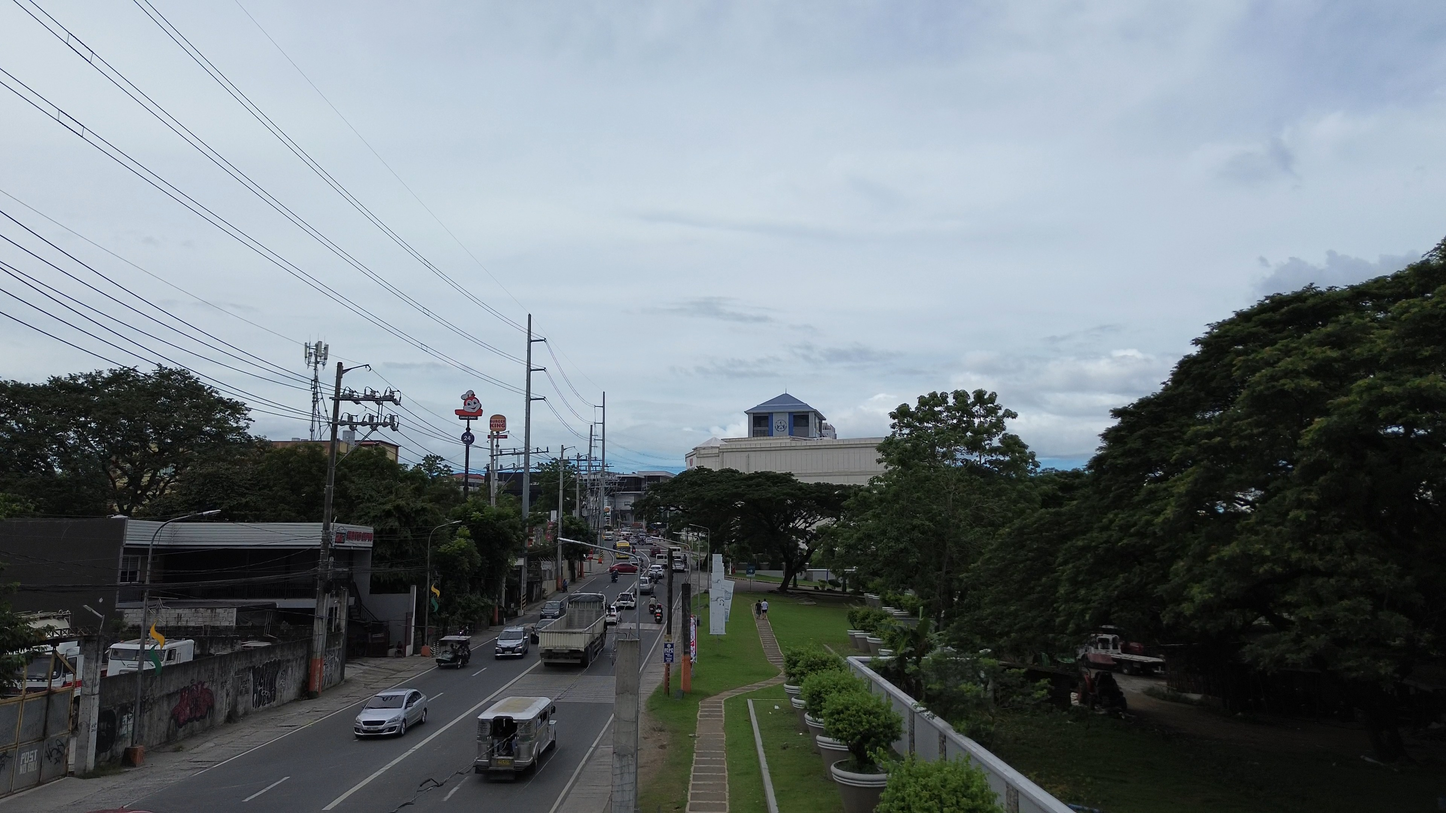car: (605, 605, 618, 626), (648, 563, 665, 575), (672, 559, 686, 572)
truck: (537, 593, 606, 666)
vehicle: (474, 697, 555, 777), (1077, 632, 1164, 674), (354, 690, 427, 737), (25, 641, 83, 691), (143, 639, 194, 669), (435, 635, 471, 668), (494, 627, 529, 658), (539, 598, 567, 619), (616, 591, 635, 609), (610, 562, 638, 574), (637, 575, 654, 594), (605, 605, 619, 626), (648, 562, 666, 576), (672, 556, 686, 572)
